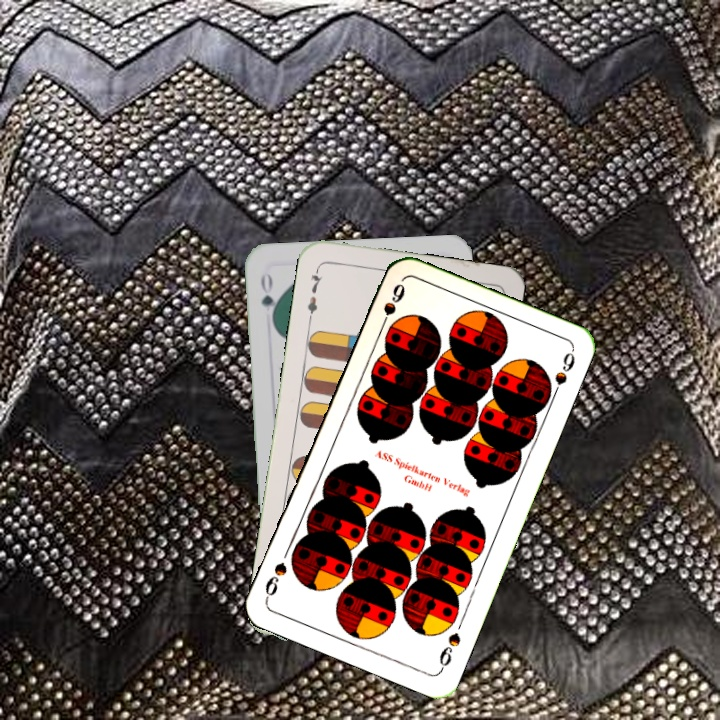E7: (303, 263, 325, 322)
GO: (257, 268, 280, 327)
S9: (375, 279, 408, 335), (435, 628, 464, 674)
